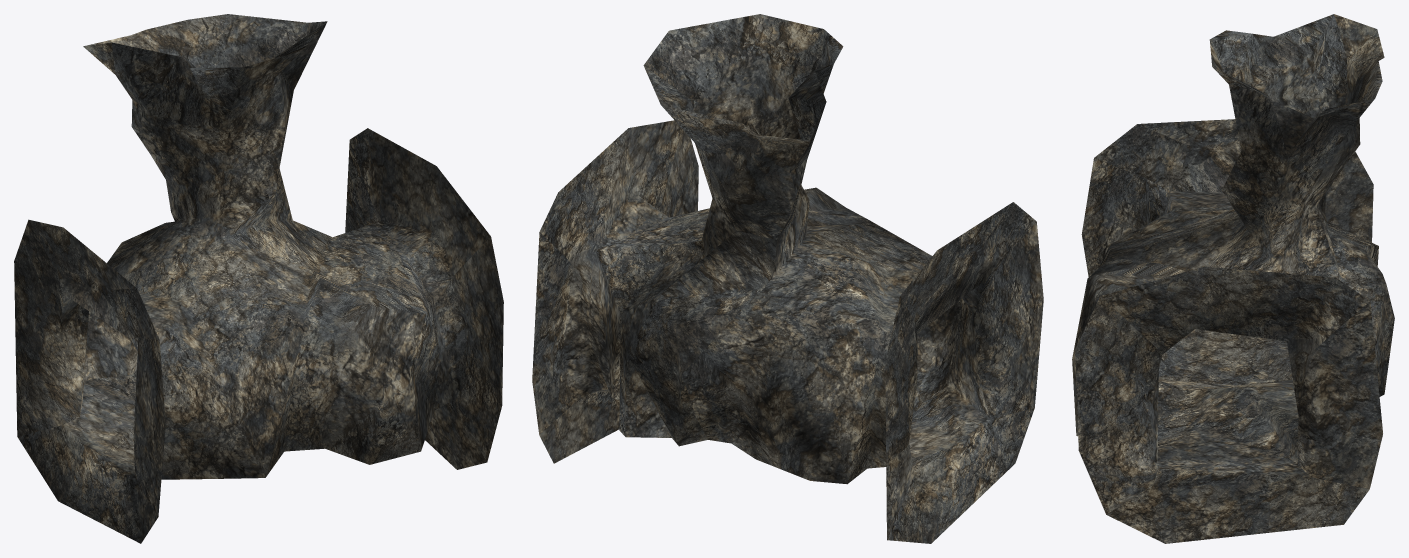
The model's file is Module2_LOD2.fbx.
3 views of the same model, side by side, from view 1: azimuth 30°, elevation 25°; view 2: azimuth 150°, elevation 25°; view 3: azimuth 270°, elevation 25° (orthographic). The views are drawn at different scales.
Visible parts, largest first — view 1: cave_el2_1000_Group29254; view 2: cave_el2_1000_Group29254; view 3: cave_el2_1000_Group29254.
Boxes of the visible parts, x1,y1,x2,y2 form: cave_el2_1000_Group29254: (14,14,503,543); cave_el2_1000_Group29254: (532,14,1043,543); cave_el2_1000_Group29254: (1072,14,1394,543).
Bounding box in the file's own units: 10.6 × 12.97 × 9.12.
